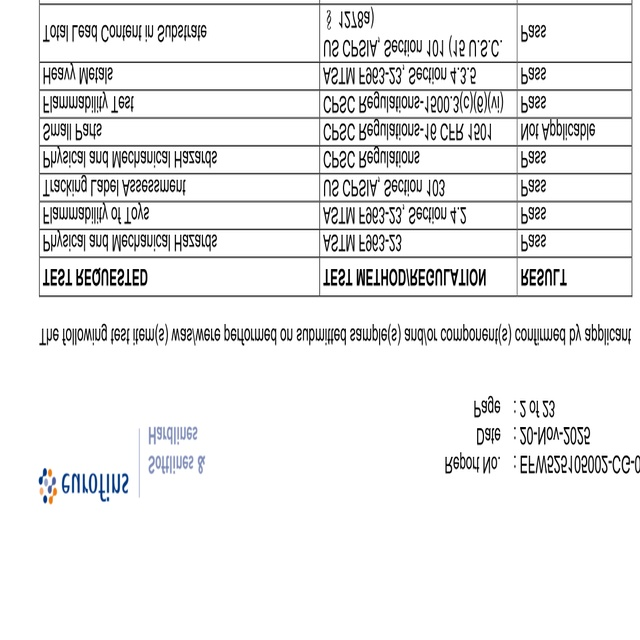eurofins: (34, 465, 133, 512)
